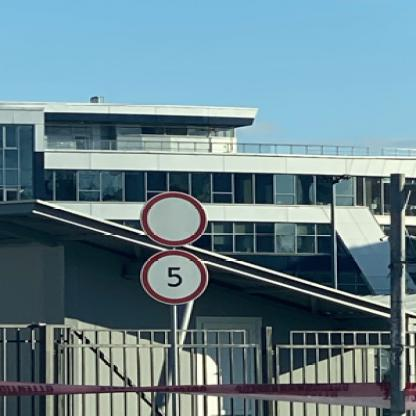speedlimit: (139, 249, 205, 302)
